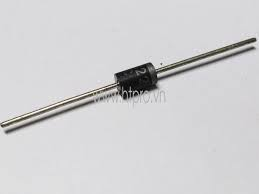diode: (96, 49, 167, 117)
